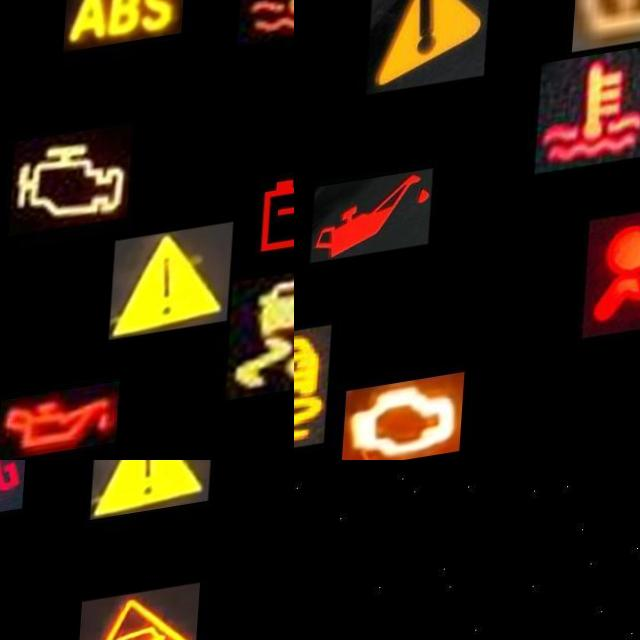Central Warning lamp: (116, 238, 239, 352), (368, 0, 492, 98), (95, 460, 218, 534)
Engine cooling system: (538, 58, 640, 184), (240, 0, 294, 62)
